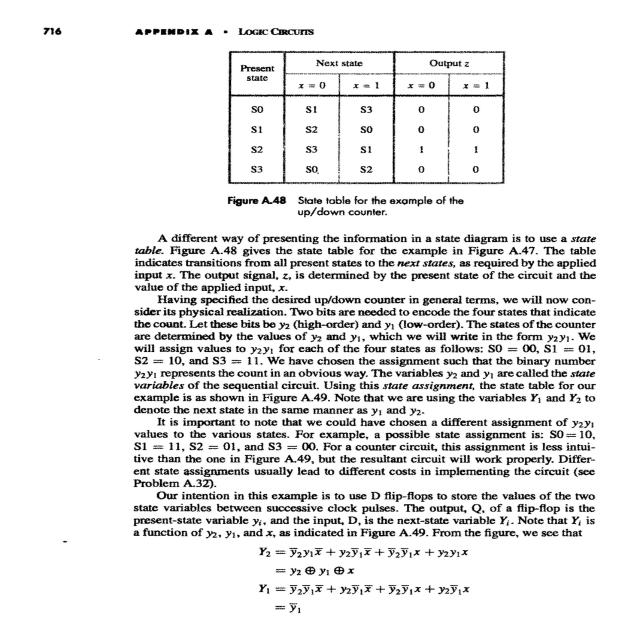diagram: (177, 43, 512, 222)
